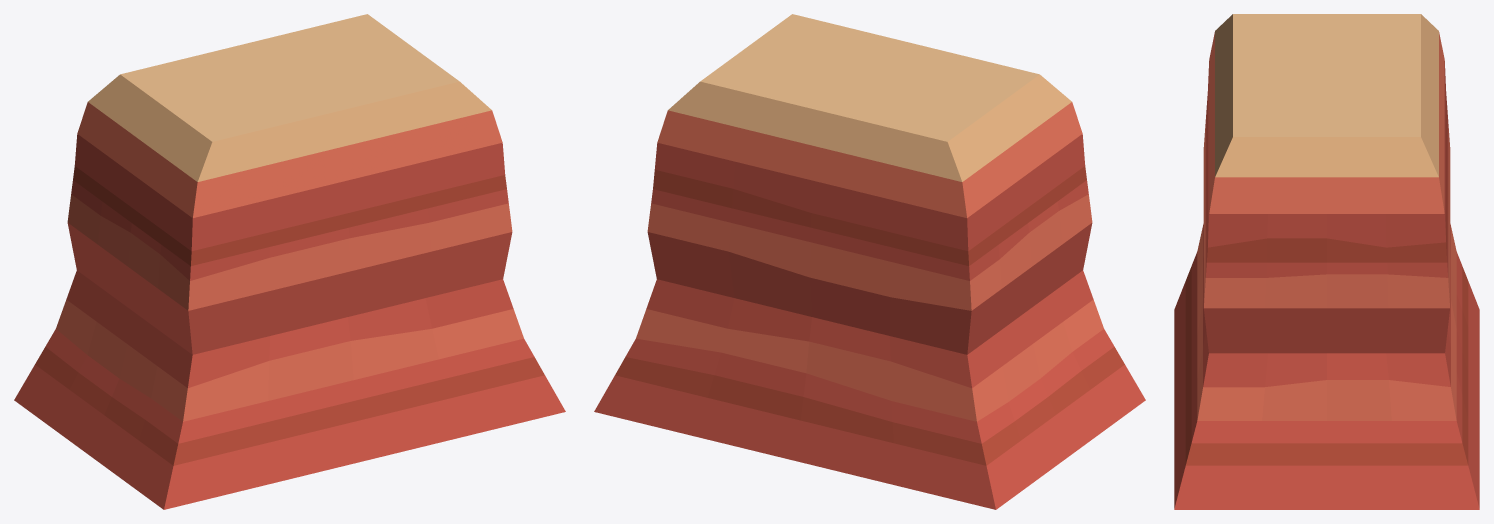
The model's file is StoneWall013.fbx.
The picture shows the model from 3 angles, left to right: view 1: azimuth 30°, elevation 25°; view 2: azimuth 150°, elevation 25°; view 3: azimuth 270°, elevation 25°; orthographic projection.
Visible parts, largest first — view 1: StoneWall013; view 2: StoneWall013; view 3: StoneWall013.
Boxes of the visible parts, x1,y1,x2,y2 form: StoneWall013: (14,14,565,509); StoneWall013: (594,14,1145,509); StoneWall013: (1174,14,1479,509).
Bounding box in the file's own units: 537 × 418 × 347.
